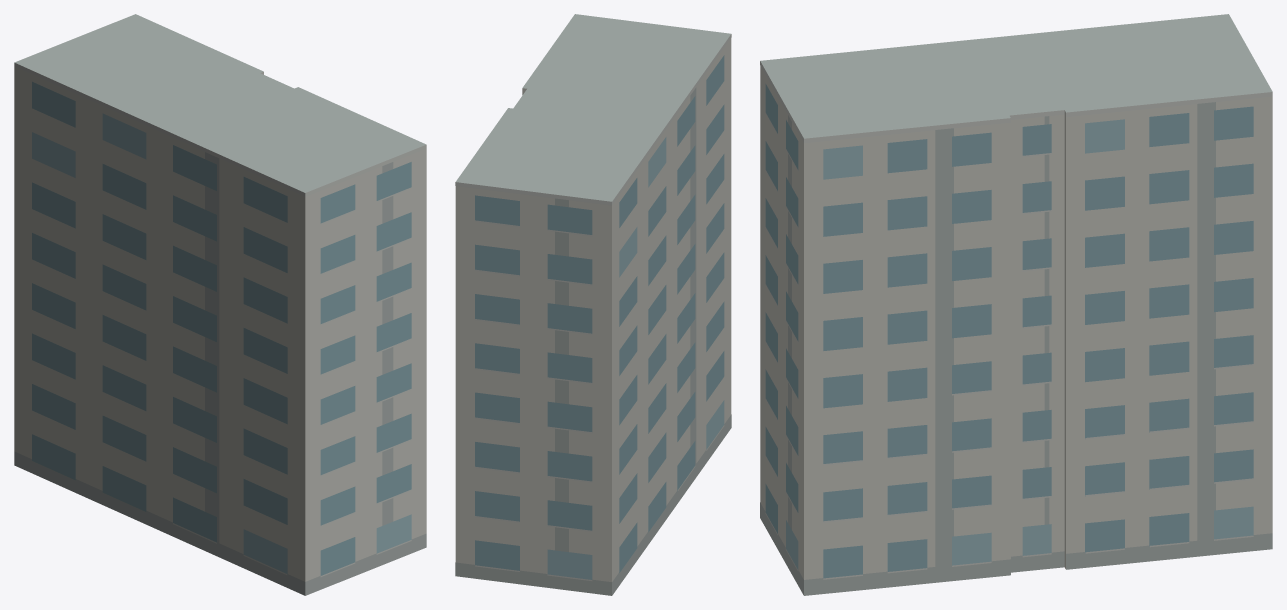
File: survey-upis-32596261.glb
3 views of the same model, side by side, from view 1: azimuth 30°, elevation 25°; view 2: azimuth 150°, elevation 25°; view 3: azimuth 270°, elevation 25° (orthographic). The views are drawn at different scales.
Visible parts, largest first — view 1: survey-upis-32596261.tmp; view 2: survey-upis-32596261.tmp; view 3: survey-upis-32596261.tmp.
Part boxes in pixels (left/top/right/bottom): survey-upis-32596261.tmp: left=14, top=14, right=426, bottom=595; survey-upis-32596261.tmp: left=455, top=14, right=731, bottom=595; survey-upis-32596261.tmp: left=760, top=14, right=1272, bottom=595.
Bounding box in the file's own units: 14.63 × 25 × 25.41.
